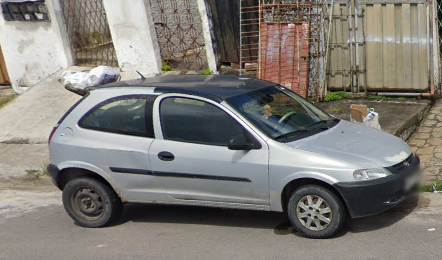car: (47, 75, 422, 239)
